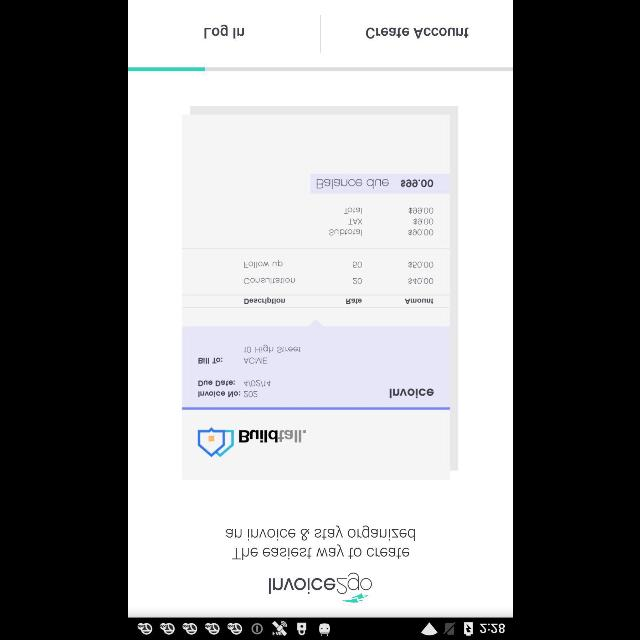image: (181, 107, 457, 481), (268, 572, 372, 602)
text: (225, 524, 415, 560), (365, 26, 469, 40), (204, 24, 244, 40)
uppertaskbar: (128, 617, 512, 639)
